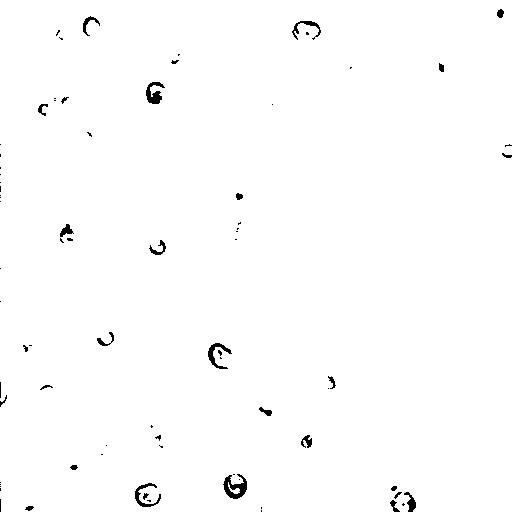micro-algae: (76, 386, 162, 468), (252, 417, 332, 493), (109, 51, 173, 111), (0, 0, 73, 52), (414, 1, 474, 41), (60, 408, 107, 456), (54, 280, 98, 326), (44, 213, 87, 256), (474, 65, 512, 112), (225, 215, 263, 253), (209, 62, 247, 98), (484, 432, 512, 476), (161, 405, 195, 439), (133, 413, 168, 446), (33, 203, 66, 236), (262, 346, 295, 379), (156, 36, 188, 70), (425, 50, 456, 82), (58, 88, 91, 117), (289, 20, 324, 47), (207, 342, 236, 371), (134, 482, 164, 509), (32, 95, 59, 124), (450, 227, 477, 256), (222, 472, 249, 500), (62, 453, 89, 480), (53, 221, 79, 247), (13, 336, 39, 362), (83, 114, 108, 141), (34, 383, 59, 409), (389, 490, 417, 512), (49, 21, 75, 44), (145, 80, 168, 105), (92, 434, 118, 456), (336, 53, 360, 76), (93, 325, 116, 348), (383, 476, 406, 499), (488, 2, 512, 24), (252, 400, 277, 421), (81, 16, 102, 38), (260, 94, 281, 116), (14, 498, 47, 512), (153, 431, 174, 451), (316, 373, 338, 391), (148, 237, 166, 256), (299, 432, 317, 449), (244, 499, 263, 511), (438, 75, 451, 90), (502, 142, 512, 159), (233, 191, 247, 203), (1, 383, 8, 406)
